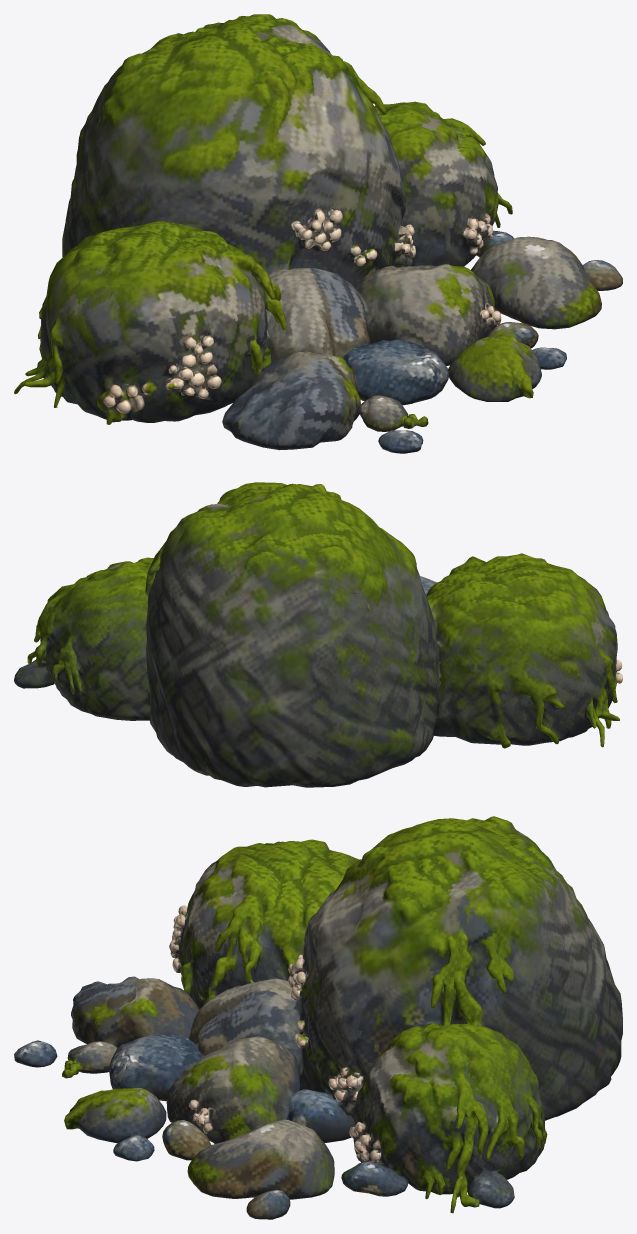
The model's file is rock_pile_optimized.glb.
3 views of the same model, one above another, from view 1: azimuth 30°, elevation 25°; view 2: azimuth 150°, elevation 25°; view 3: azimuth 270°, elevation 25° (orthographic). The views are drawn at different scales.
Bounding box in the file's own units: 1.87 × 0.7737 × 1.72.
Materials: 1 (1 with a texture image).
